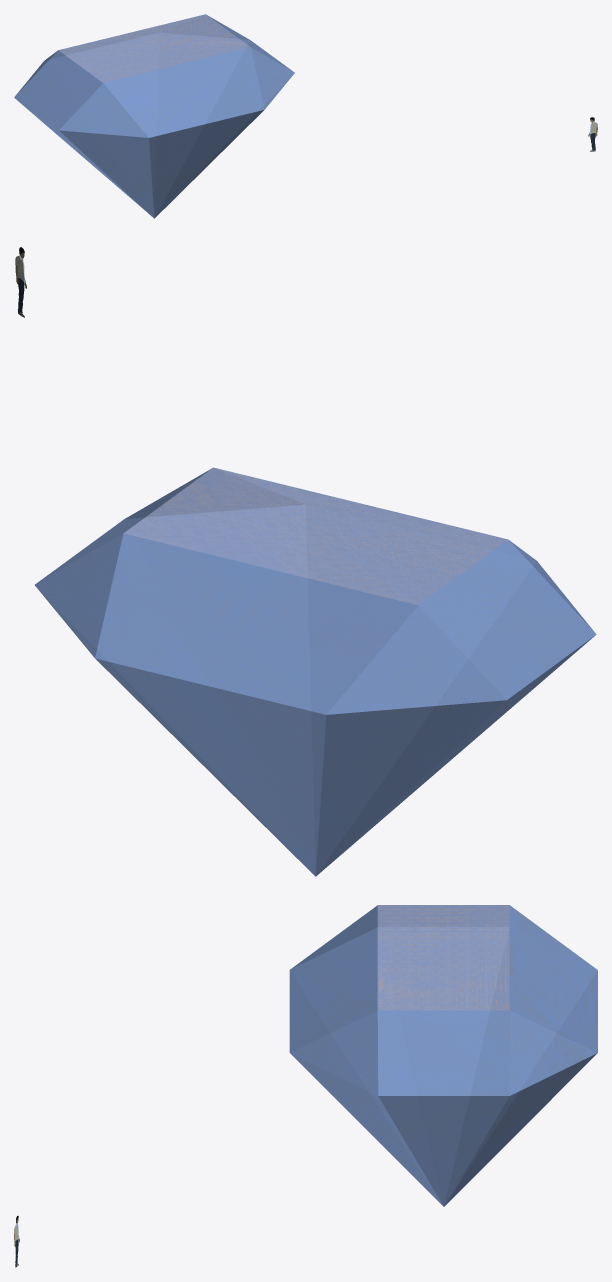
Rendered from diamond.dae.
3 renders of one model, top to bottom at view 1: azimuth 30°, elevation 25°; view 2: azimuth 150°, elevation 25°; view 3: azimuth 270°, elevation 25°, orthographic. The views are drawn at different scales.
Visible parts, largest first — view 1: diamond (×2); view 2: diamond (×2); view 3: diamond (×2).
Part boxes in pixels (x1,y1,x2,y2): diamond (×2): (14, 14, 294, 218); diamond (×2): (35, 467, 596, 876); diamond (×2): (289, 905, 597, 1206).
Size of the model in its own units: 873 by 726 by 342.
